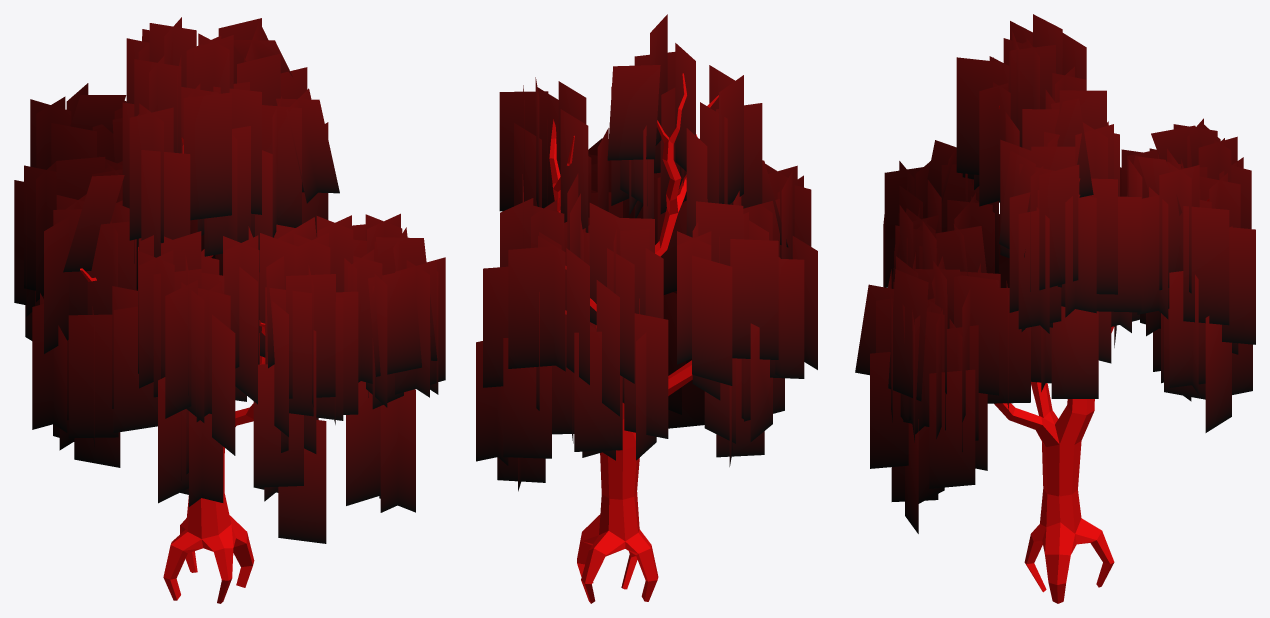
Rendered from SM_Tree_Willow_Large_01.gltf.
The picture shows the model from 3 angles, left to right: view 1: azimuth 30°, elevation 25°; view 2: azimuth 150°, elevation 25°; view 3: azimuth 270°, elevation 25°; orthographic projection. The views are drawn at different scales.
Visible parts, largest first — view 1: SM_Tree_Willow_Large_01; view 2: SM_Tree_Willow_Large_01; view 3: SM_Tree_Willow_Large_01.
Part boxes in pixels (bbox=[...]): SM_Tree_Willow_Large_01: bbox=[14, 17, 445, 603]; SM_Tree_Willow_Large_01: bbox=[476, 14, 817, 603]; SM_Tree_Willow_Large_01: bbox=[855, 14, 1255, 603].
Bounding box in the file's own units: 5.8 × 9.62 × 6.35.
